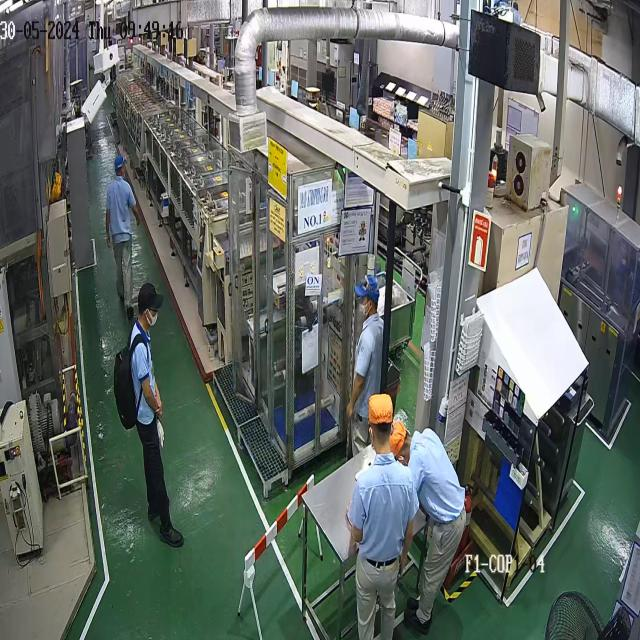Person: (346, 393, 420, 639), (389, 420, 467, 635), (126, 282, 184, 548), (345, 273, 384, 457), (105, 154, 140, 320)
